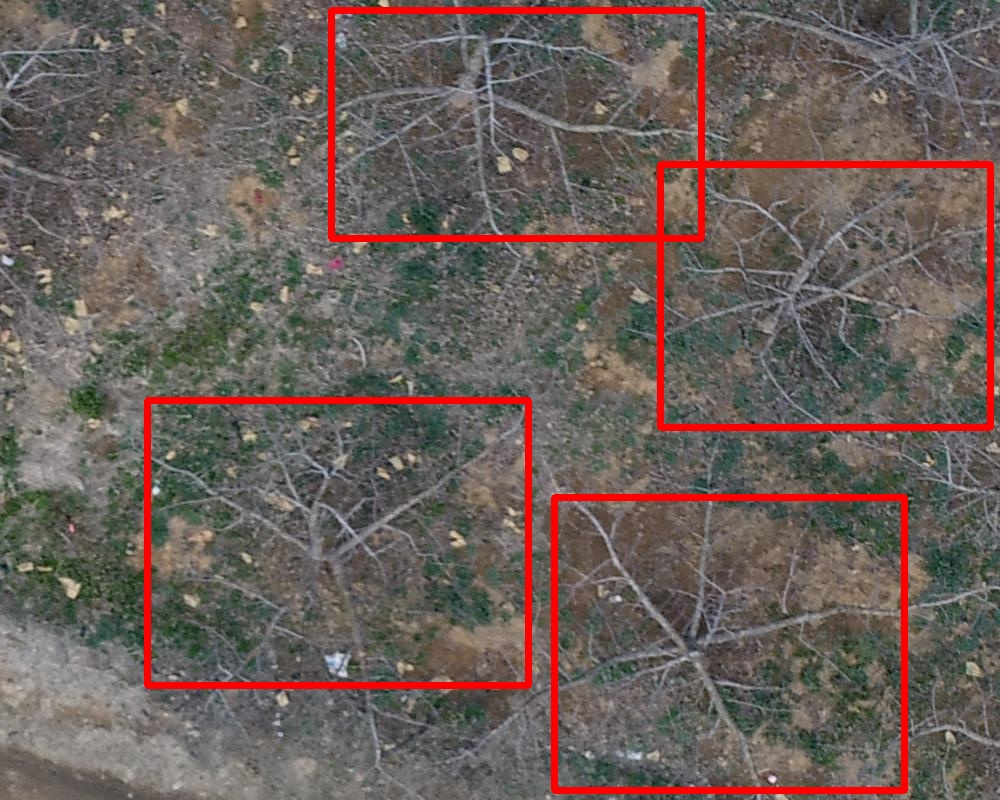apple: (147, 400, 528, 685), (554, 497, 904, 790), (660, 164, 990, 427), (331, 10, 701, 238)
